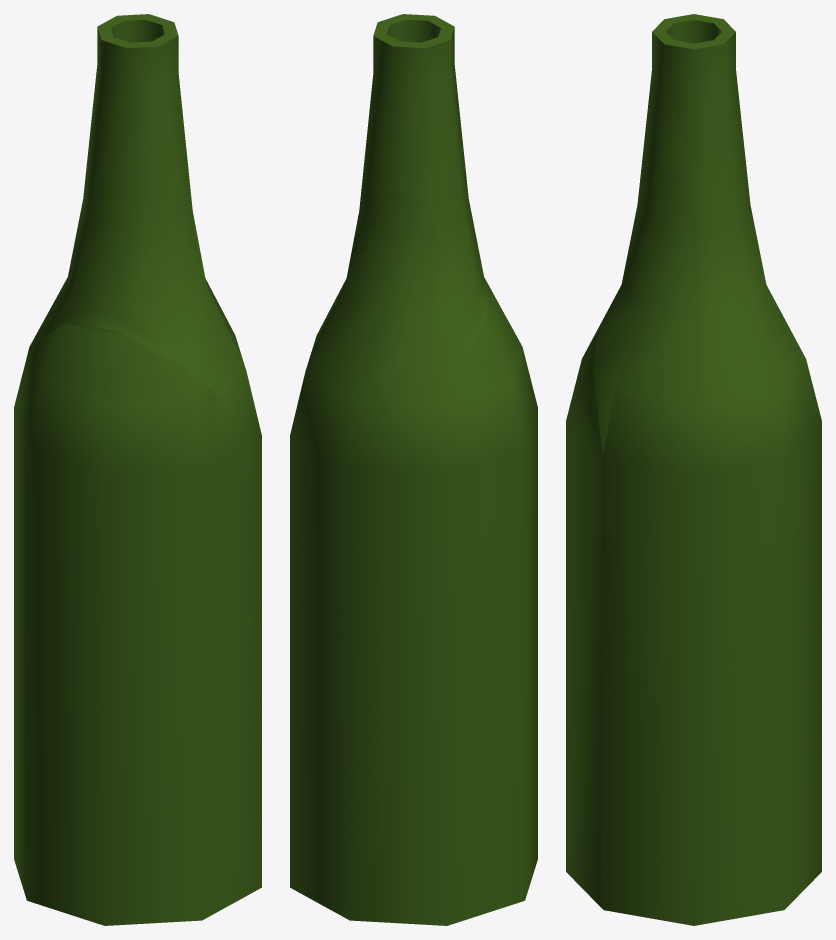
The model's file is Bottle.fbx.
3 renders of one model, left to right at view 1: azimuth 30°, elevation 25°; view 2: azimuth 150°, elevation 25°; view 3: azimuth 270°, elevation 25°, orthographic.
Visible parts, largest first — view 1: Bottle, BrokenBottle01, BrokenBottle02, BrokenBottle03; view 2: Bottle, BrokenBottle01, BrokenBottle02, BrokenBottle03; view 3: Bottle, BrokenBottle01, BrokenBottle02, BrokenBottle03.
Boxes of the visible parts, x1,y1,x2,y2 form: Bottle: (14,14,261,925); BrokenBottle01: (14,324,261,925); BrokenBottle02: (33,159,259,435); BrokenBottle03: (93,14,186,194); Bottle: (290,14,537,925); BrokenBottle01: (290,292,537,925); BrokenBottle02: (310,170,490,430); BrokenBottle03: (364,14,457,195); Bottle: (571,14,821,925); BrokenBottle01: (566,335,821,925); BrokenBottle02: (594,163,787,562); BrokenBottle03: (642,14,737,170).
Bounding box in the file's own units: 19.22 × 69.66 × 19.22.
